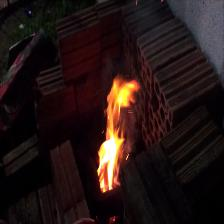fire: (89, 58, 147, 206)
